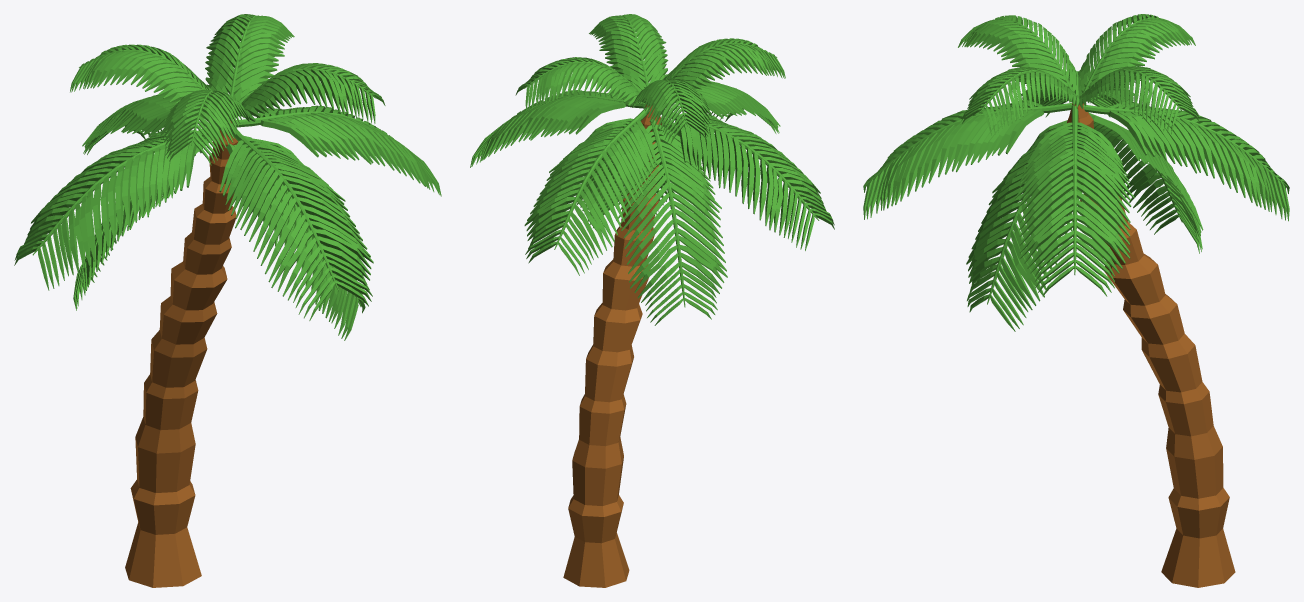
The model's file is ENVI_LV2-3_Kelapa3.fbx.
3 views of the same model, side by side, from view 1: azimuth 30°, elevation 25°; view 2: azimuth 150°, elevation 25°; view 3: azimuth 270°, elevation 25° (orthographic). The views are drawn at different scales.
Visible parts, largest first — view 1: Kelapa3; view 2: Kelapa3; view 3: Kelapa3.
Part boxes in pixels (<box>): Kelapa3: <box>14,14,441,587</box>; Kelapa3: <box>470,14,834,587</box>; Kelapa3: <box>863,14,1289,587</box>.
Bounding box in the file's own units: 532 × 723 × 532.
